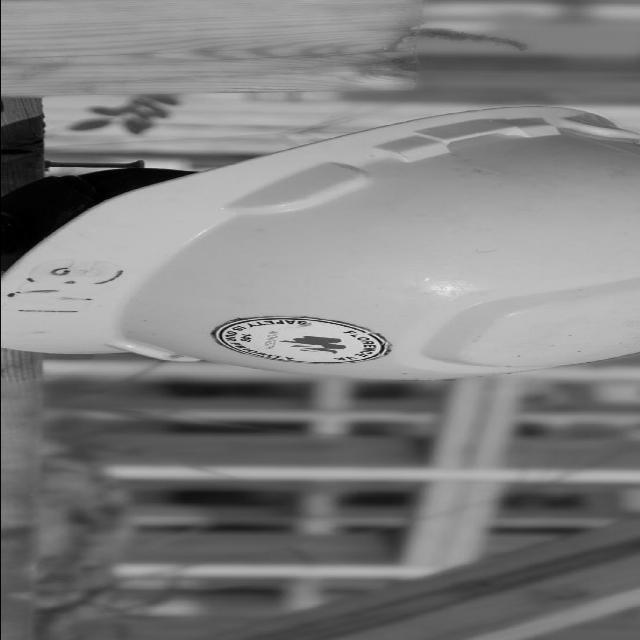safety_helmet: (0, 102, 640, 381)
